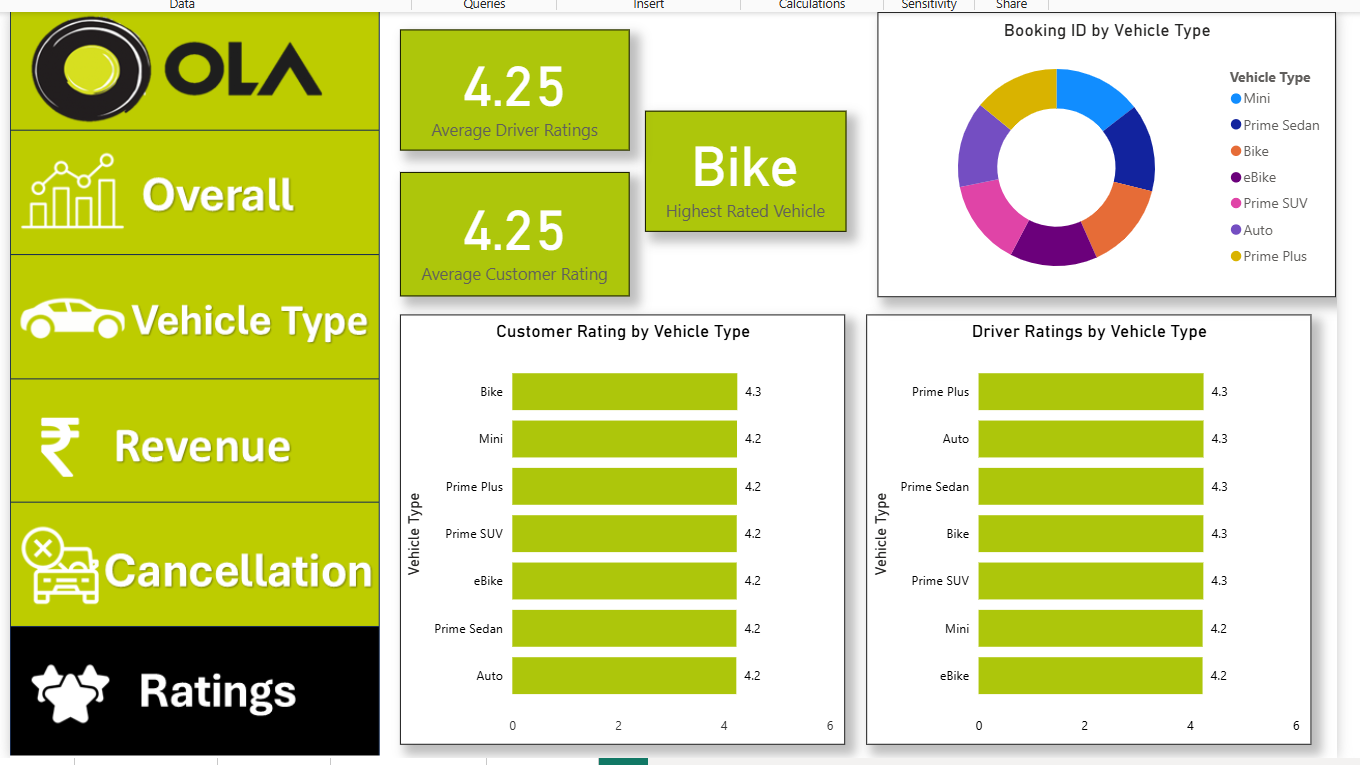

The page's visual inventory and layout, read from the dashboard file:
{"tool":"powerbi","page":{"name":"RATINGS","canvas":[1280,720],"ordinal":4},"visuals":[{"type":"actionButton","box":[0,232.8,355.9,118.2],"z":0},{"type":"actionButton","box":[0,114.6,355.9,118.2],"z":1000},{"type":"actionButton","box":[0,359.5,355.9,118.2],"z":2000},{"type":"actionButton","box":[0,468.1,355.9,118.2],"z":3000},{"type":"clusteredBarChart","title":" Customer Rating by Vehicle Type","fields":{"Category":["Sheet.Vehicle Type"],"Y":["Avg(Sheet.Customer Rating)"]},"box":[377,291.6,429.6,415.4],"z":4000},{"type":"clusteredBarChart","title":" Driver Ratings by Vehicle Type","fields":{"Category":["Sheet.Vehicle Type"],"Y":["Avg(Sheet.Driver Ratings)"]},"box":[826.5,291.6,429.6,415.4],"z":5000},{"type":"card","fields":{"Values":["Avg(Sheet.Customer Rating)"]},"box":[376.6,154.7,221.9,120.3],"z":6000},{"type":"donutChart","title":"Booking ID by Vehicle Type","fields":{"Category":["Sheet.Vehicle Type"],"Y":["CountNonNull(Sheet.Booking ID)"]},"box":[837.5,0,442.2,275],"z":7000},{"type":"card","fields":{"Values":["Sheet.Highest Rated Vehicle"]},"box":[612.3,95.9,194.5,116.4],"z":8000},{"type":"card","fields":{"Values":["Avg(Sheet.Driver Ratings)"]},"box":[376.6,17.2,221.9,117.2],"z":9000}]}

Visuals, with their boxes in screenshot pixels (x1, y1, x2, y2):
actionButton: 4 251 376 375
actionButton: 4 127 376 251
actionButton: 4 384 376 508
actionButton: 4 498 376 621
" Customer Rating by Vehicle Type" clusteredBarChart: 399 313 849 748
" Driver Ratings by Vehicle Type" clusteredBarChart: 870 313 1320 748
card - Avg(Sheet.Customer Rating): 398 169 631 295
"Booking ID by Vehicle Type" donutChart: 881 7 1344 295
card - Sheet.Highest Rated Vehicle: 645 108 849 230
card - Avg(Sheet.Driver Ratings): 398 25 631 148
